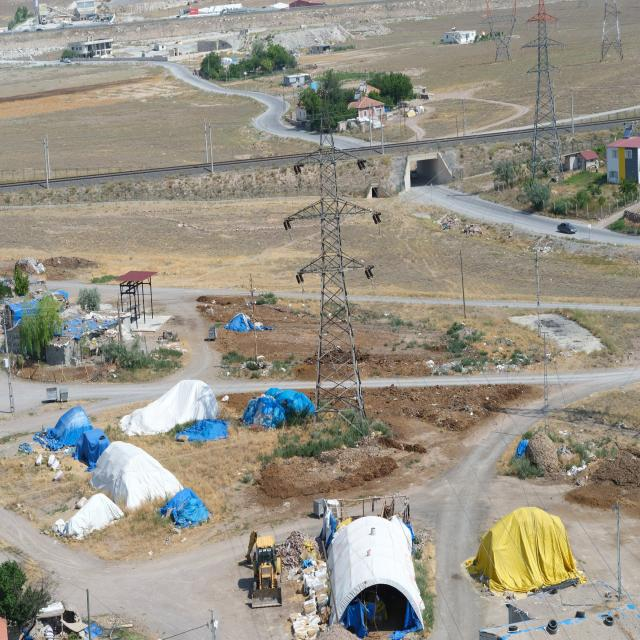voltage_line: (290, 107, 373, 427), (530, 0, 568, 176), (595, 0, 625, 64), (488, 0, 517, 60)
